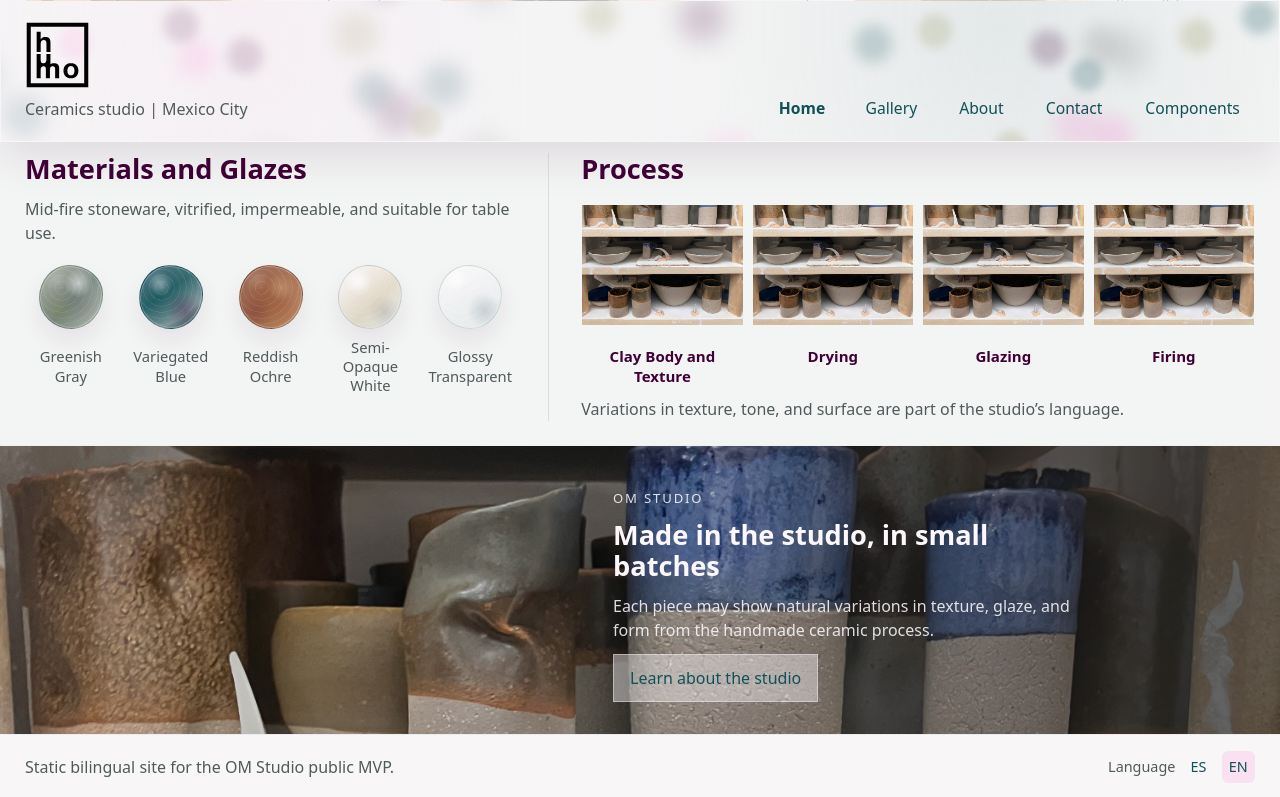
Test case: App › renders the English home page from the /en route and lets the user switch language from the footer
The width and height of the screenshot is (1280, 797).
(page scrolled)
Click the link "ES". click: point(1199, 767)
box: [1191,757,1206,776]
(page scrolled)
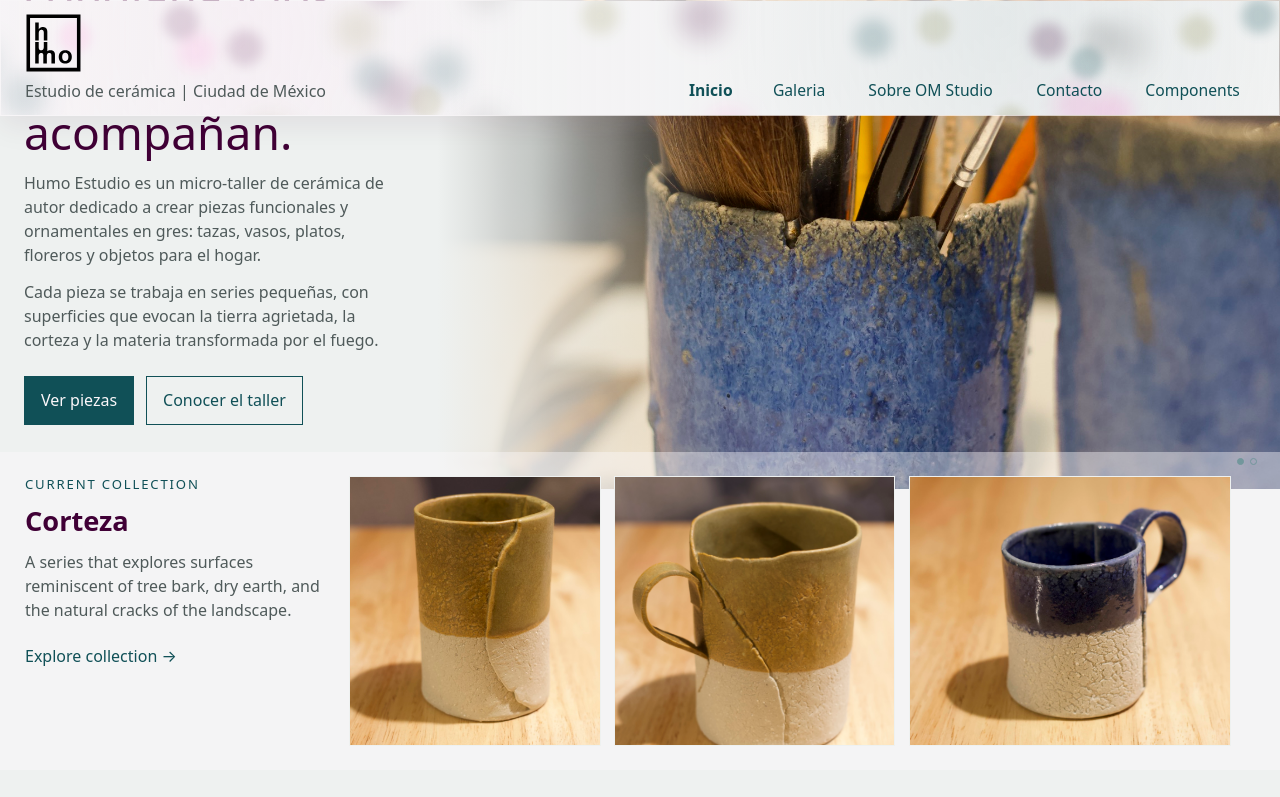
Result: the link "Ver piezas" is shown at [24,376,134,425]
